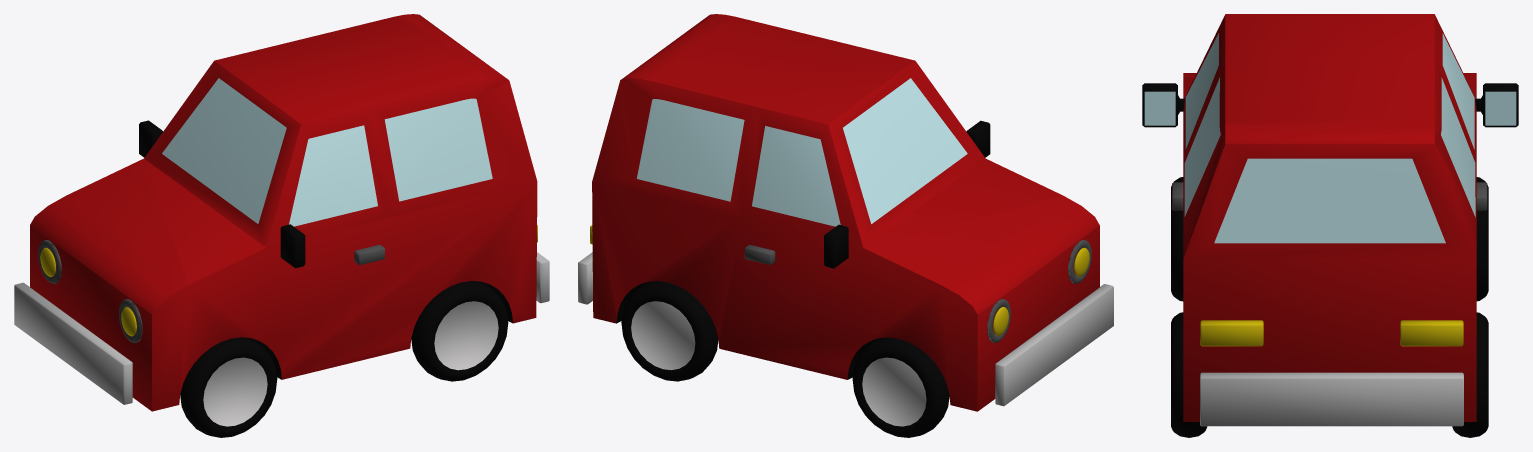
File: CarRed.fbx
The picture shows the model from 3 angles, left to right: view 1: azimuth 30°, elevation 25°; view 2: azimuth 150°, elevation 25°; view 3: azimuth 270°, elevation 25°; orthographic projection. The views are drawn at different scales.
Visible parts, largest first — view 1: FrontLampFrame.002; view 2: FrontLampFrame.002; view 3: FrontLampFrame.002.
Boxes of the visible parts, bbox=[...] form: FrontLampFrame.002: bbox=[14, 14, 549, 437]; FrontLampFrame.002: bbox=[578, 14, 1113, 437]; FrontLampFrame.002: bbox=[1142, 14, 1518, 437].
Bounding box in the file's own units: 416 × 259 × 264.
